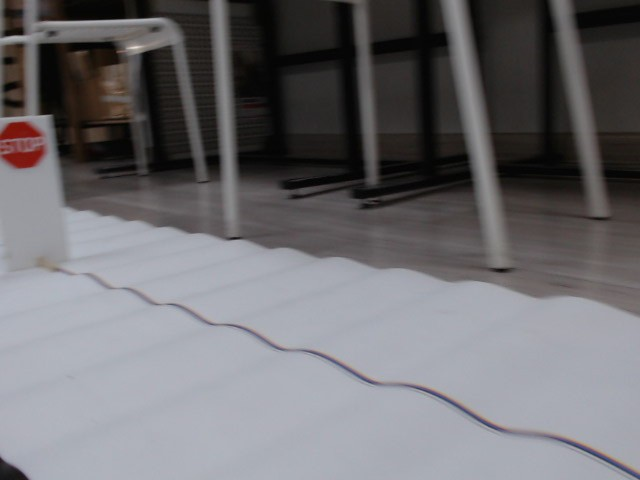Stop: (1, 122, 48, 169)
